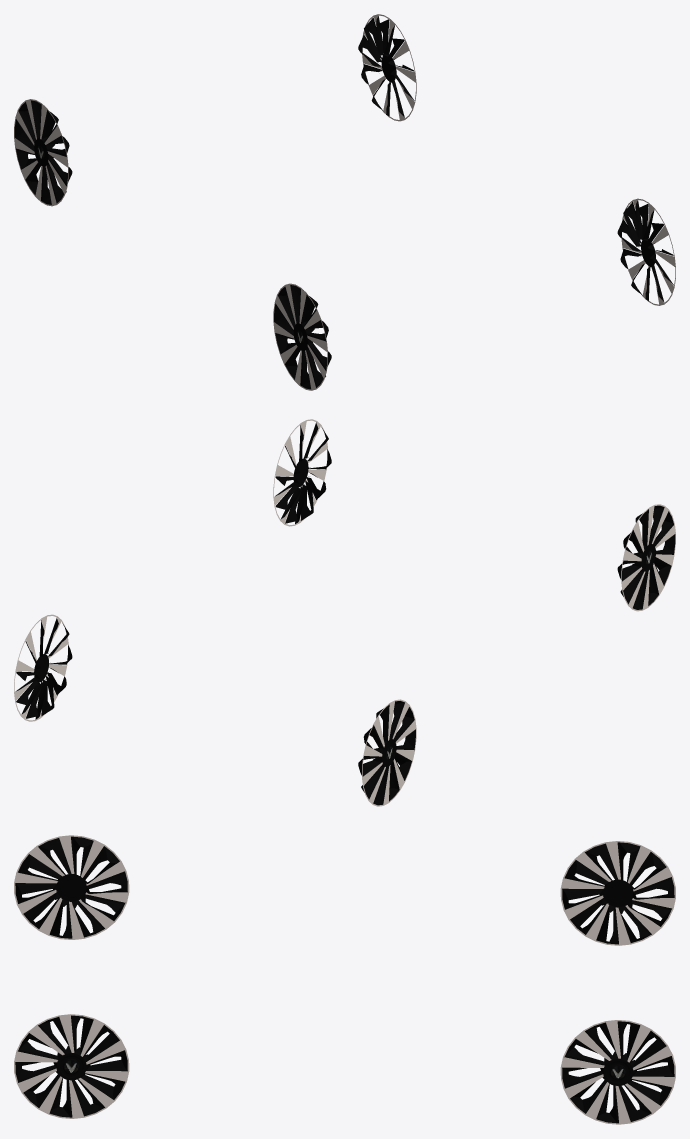
3 renders of one model, top to bottom at view 1: azimuth 30°, elevation 25°; view 2: azimuth 150°, elevation 25°; view 3: azimuth 270°, elevation 25°, orthographic. The views are drawn at different scales.
Parts seen in each view (by area): view 1: 2; view 2: 2; view 3: 2.
Boxes of the visible parts, box(x1,y1,x2,y2) form: 2: box(14, 14, 675, 390); 2: box(14, 419, 675, 806); 2: box(14, 835, 675, 1124).
Bounding box in the file's own units: 0.9731 × 0.2795 × 1.52.
Materials: 4 (1 with a texture image).
